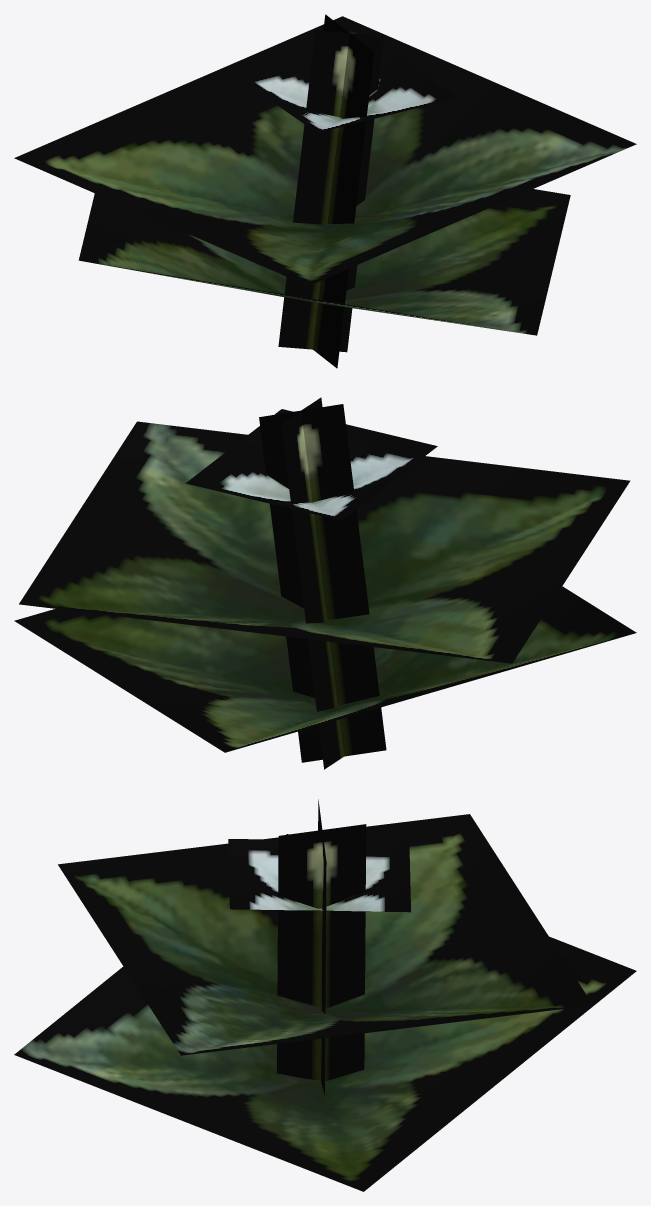
File: OZ_02_mi_grass06A.glb
3 renders of one model, top to bottom at view 1: azimuth 30°, elevation 25°; view 2: azimuth 150°, elevation 25°; view 3: azimuth 270°, elevation 25°, orthographic. The views are drawn at different scales.
Visible parts, largest first — view 1: OM_02_mi_grass06A; view 2: OM_02_mi_grass06A; view 3: OM_02_mi_grass06A.
Boxes of the visible parts, <box> form: OM_02_mi_grass06A: <box>14,14,636,368</box>; OM_02_mi_grass06A: <box>14,397,636,769</box>; OM_02_mi_grass06A: <box>14,799,636,1191</box>.
Bounding box in the file's own units: 0.8281 × 0.4974 × 0.8231.
Materials: 1 (1 with a texture image).
